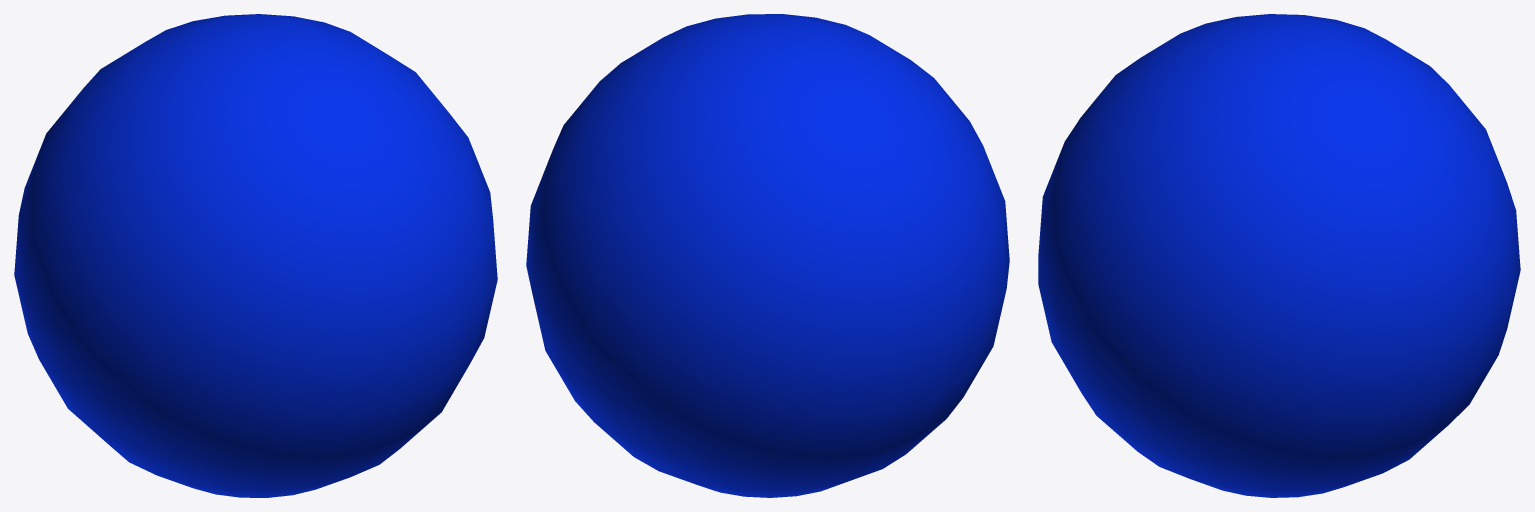
File: bubble.fbx
The picture shows the model from 3 angles, left to right: view 1: azimuth 30°, elevation 25°; view 2: azimuth 150°, elevation 25°; view 3: azimuth 270°, elevation 25°; orthographic projection.
Visible parts, largest first — view 1: Sphere001; view 2: Sphere001; view 3: Sphere001.
Boxes of the visible parts, x1,y1,x2,y2 form: Sphere001: [14, 14, 497, 497]; Sphere001: [526, 14, 1009, 497]; Sphere001: [1038, 14, 1520, 497].
Bounding box in the file's own units: 61.92 × 62.21 × 61.78.
